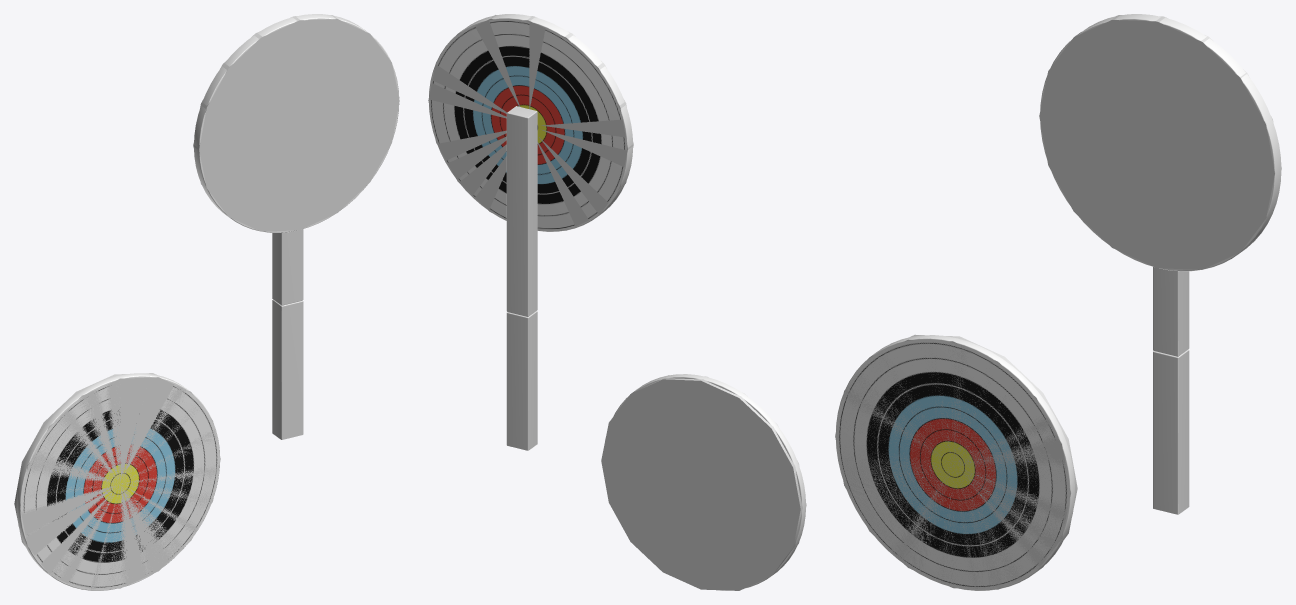
File: Targets.fbx
The picture shows the model from 3 angles, left to right: view 1: azimuth 30°, elevation 25°; view 2: azimuth 150°, elevation 25°; view 3: azimuth 330°, elevation 25°; orthographic projection. The views are drawn at different scales.
Visible parts, largest first — view 1: Target02_COL, Target01, Target01_COL, Target02_Pole, Target02; view 2: Target01_COL, Target02, Target02_Pole, Target02_COL, Target01; view 3: Target01, Target02_COL, Target01_COL, Target02_Pole, Target02.
Part boxes in pixels (x1,y1,x2,y2): Target02_COL: (193, 15, 399, 231); Target01: (16, 373, 219, 590); Target01_COL: (14, 373, 220, 589); Target02_Pole: (272, 229, 303, 439); Target02: (194, 14, 399, 232); Target01_COL: (601, 376, 806, 590); Target02: (429, 14, 632, 231); Target02_Pole: (506, 106, 537, 450); Target02_COL: (428, 15, 633, 230); Target01: (605, 374, 805, 590); Target01: (836, 335, 1074, 590); Target02_COL: (1039, 15, 1281, 269); Target01_COL: (835, 334, 1077, 589); Target02_Pole: (1153, 267, 1189, 514); Target02: (1040, 14, 1281, 271).
Size of the model in its own units: 1.07 by 1.43 by 0.0815.
